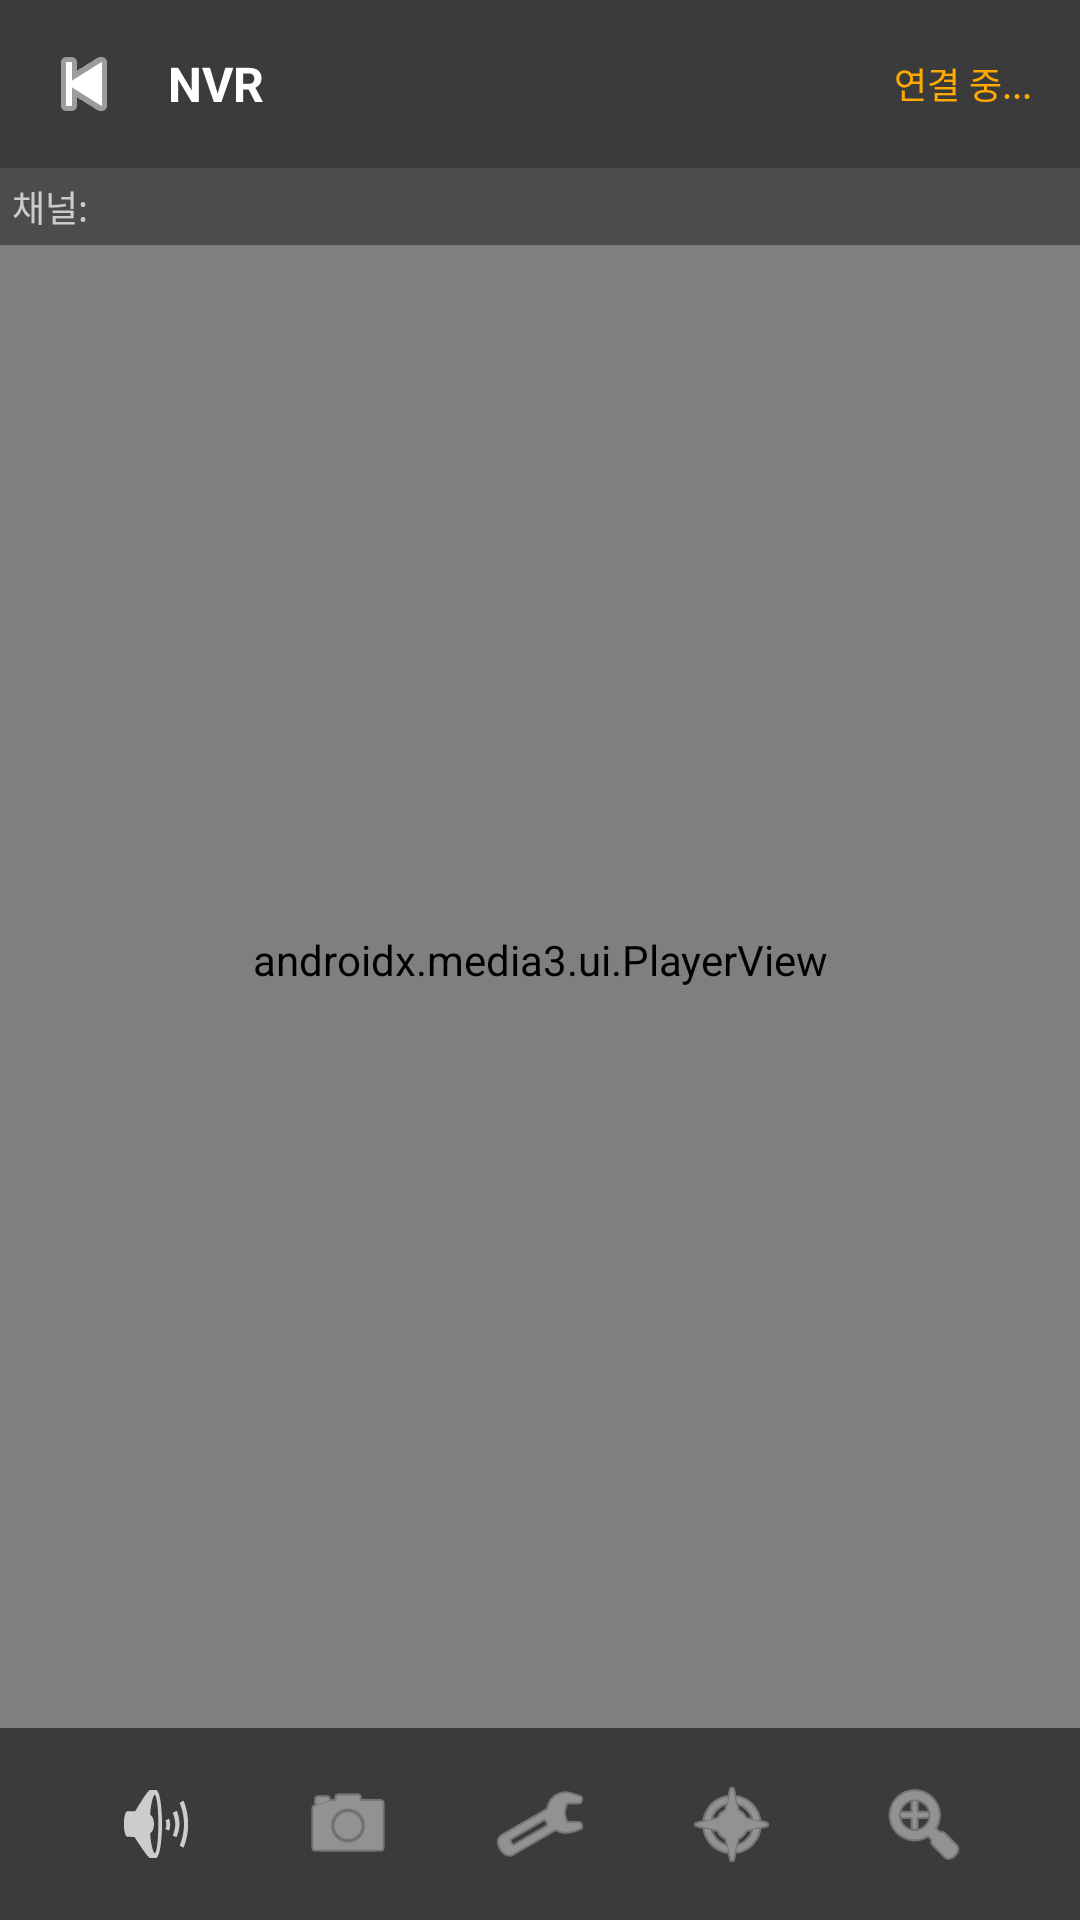

Named icons in this screenshot (1080 × 1920) and their centers, point (x, y):
camera: point (348, 1822)
compass: point (731, 1824)
lock silent mode off: point (156, 1824)
manage: point (540, 1824)
previous: point (84, 84)
zoom: point (924, 1824)
